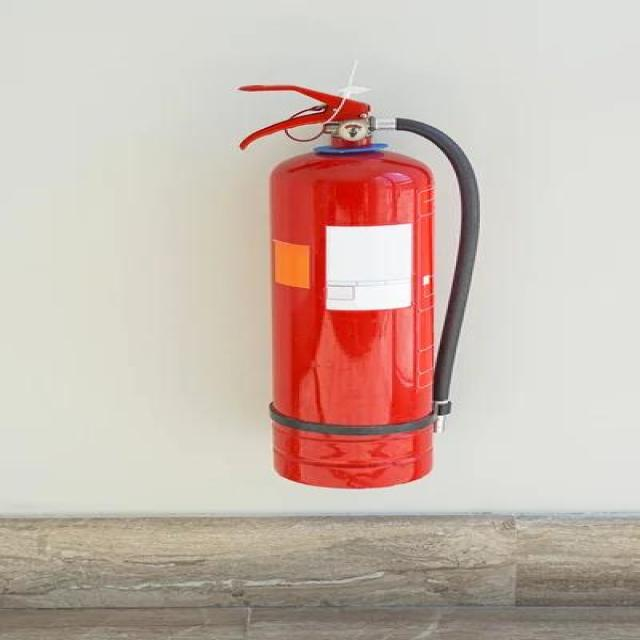fire_extinguisher: (222, 74, 487, 492)
